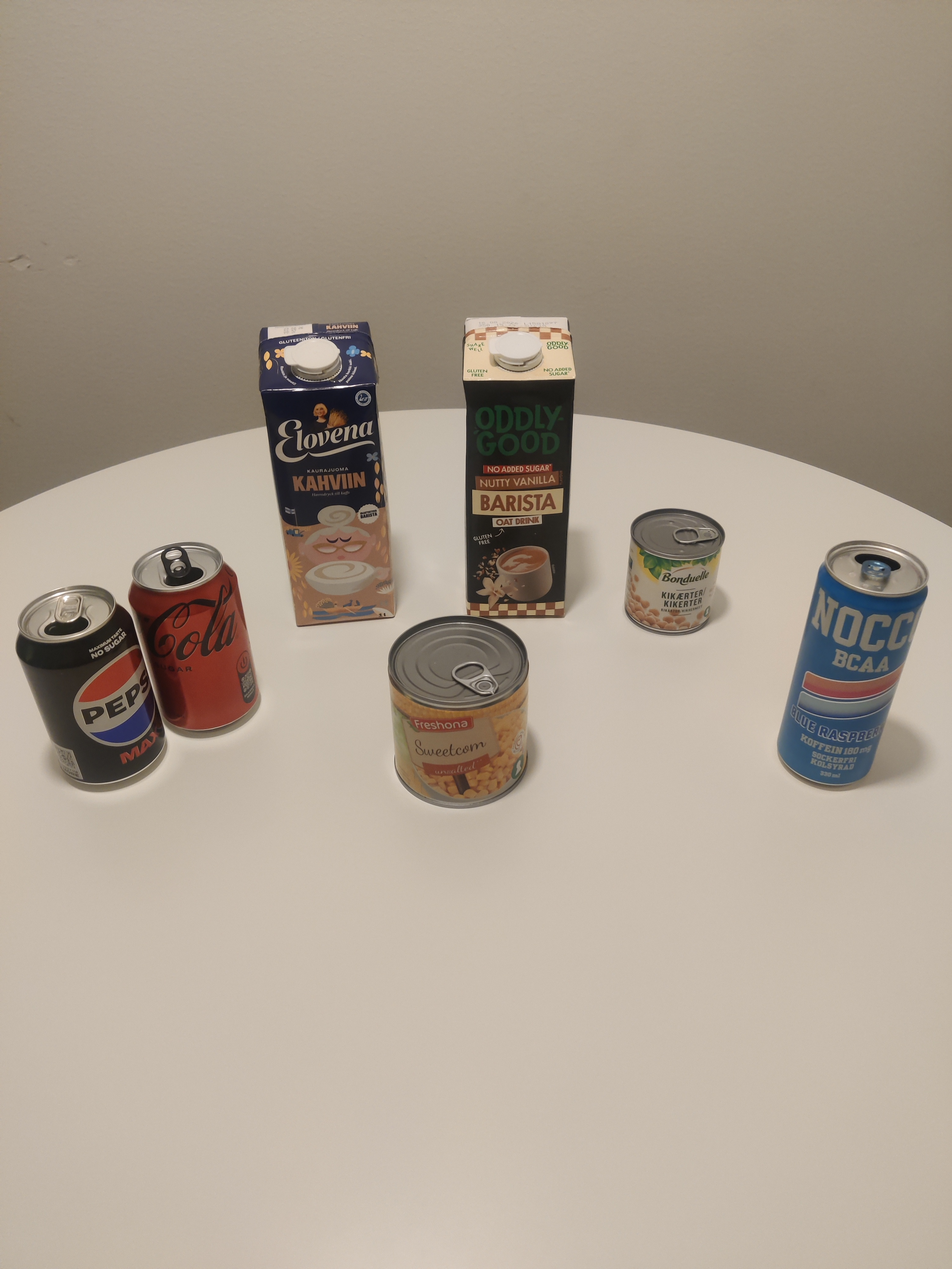Dryckeskartong: (231, 289, 415, 641), (441, 277, 597, 637), (126, 532, 266, 760)
Konservburk: (362, 614, 578, 812), (611, 501, 744, 641)
Pantburk: (772, 504, 942, 819), (2, 583, 186, 809)
